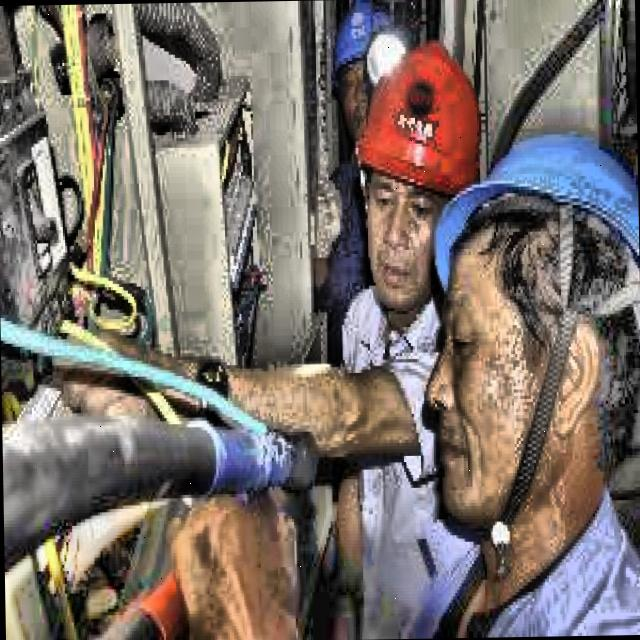helmet: (395, 110, 634, 578), (343, 32, 506, 350), (328, 5, 377, 126)
